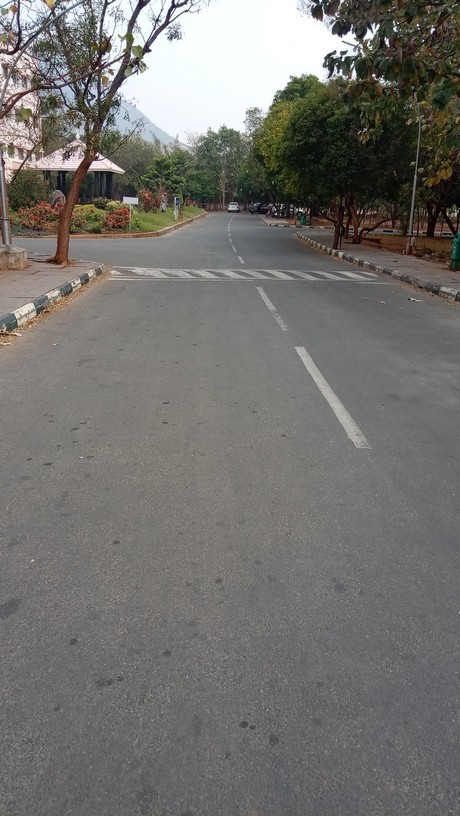bump: (102, 267, 385, 284)
